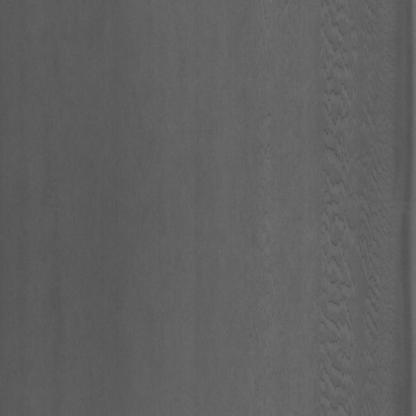silk_spot: (314, 17, 368, 382)
